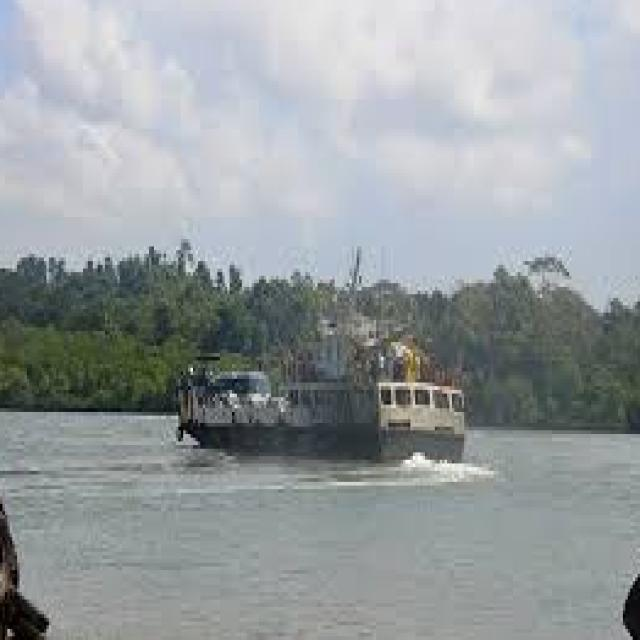fishing boat: (174, 296, 472, 470)
